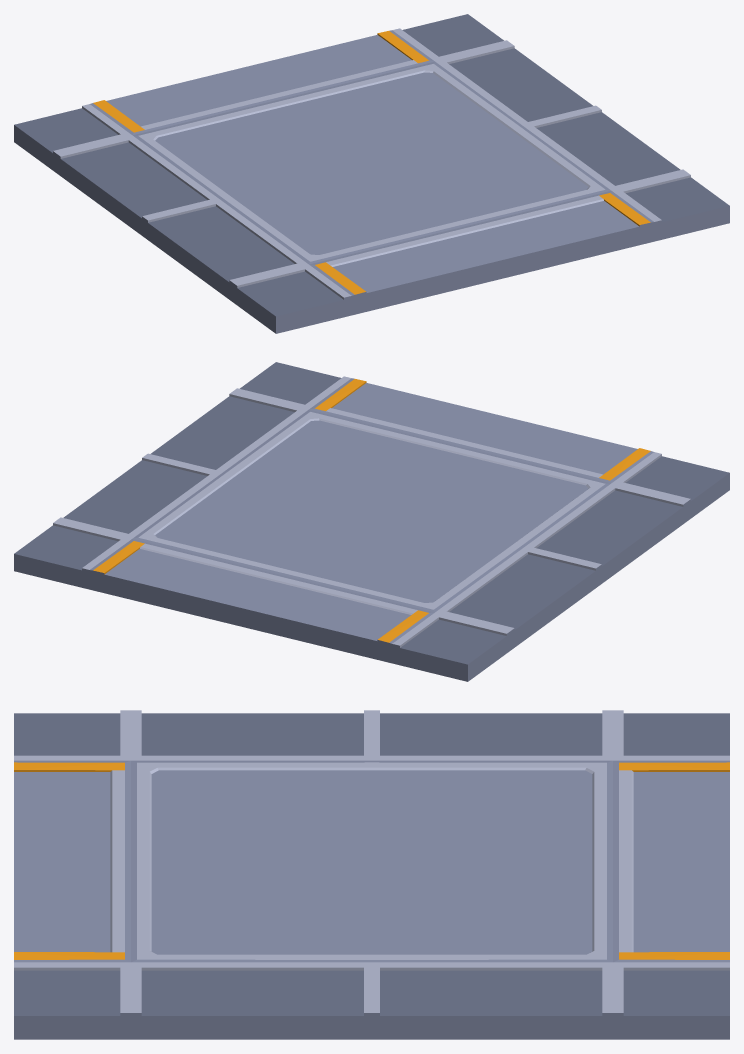
The model's file is Floor2.FBX.
3 views of the same model, one above another, from view 1: azimuth 30°, elevation 25°; view 2: azimuth 150°, elevation 25°; view 3: azimuth 270°, elevation 25° (orthographic). The views are drawn at different scales.
Visible parts, largest first — view 1: Floor2; view 2: Floor2; view 3: Floor2.
Part boxes in pixels (x1,y1,x2,y2): Floor2: (14,14,729,333); Floor2: (14,362,729,681); Floor2: (14,710,729,1039).
Bounding box in the file's own units: 40.08 × 1.7 × 40.08.
